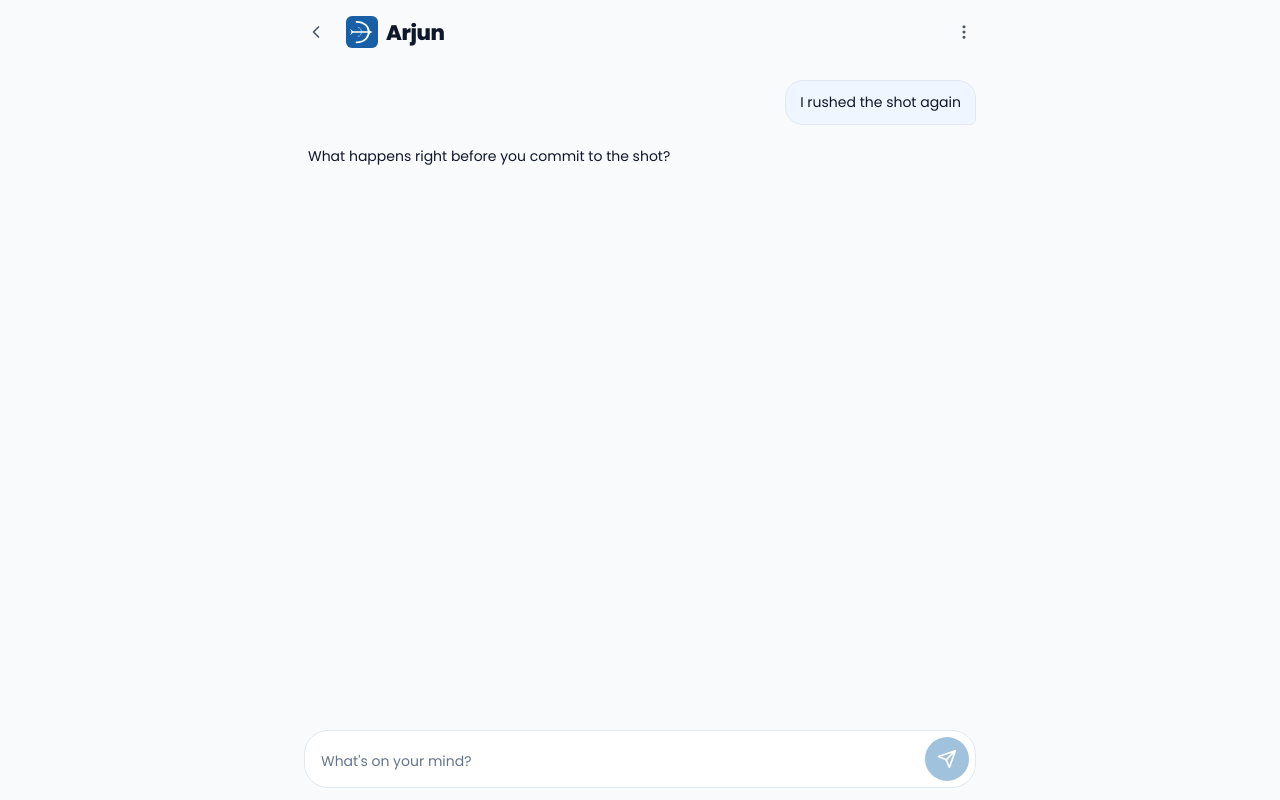
Test: Coach — immersive shell › the Coach header renders with branding, a labelled back control and the safety control
Expected: the text "What happens right before you commit to the shot?" is shown, [308,146,670,166]
Expected: the header is shown, [0,0,1279,64]
Click the button named "More options" at (964, 32), box [942,10,986,54]
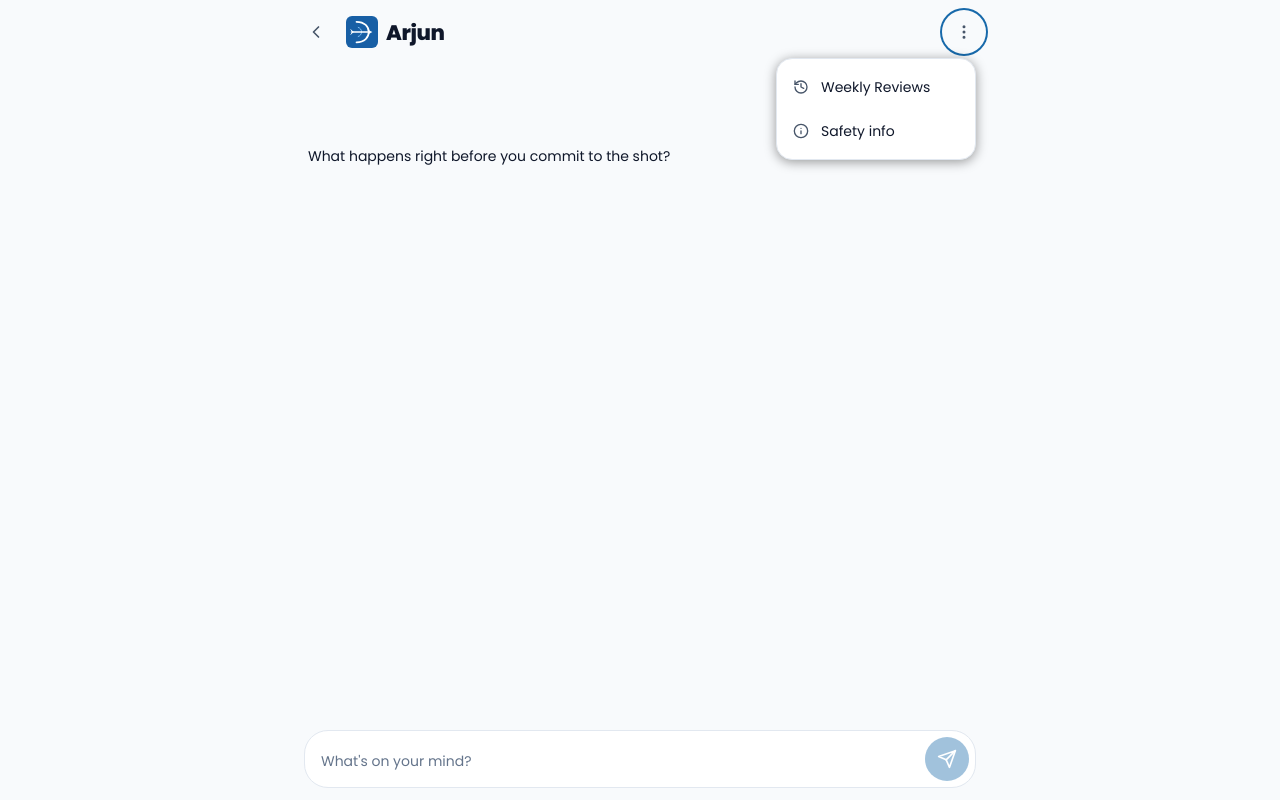
Expected: the link "Weekly Reviews" is shown, [793,77,930,97]
Expected: the button "Safety info" is shown, [777,109,975,153]
